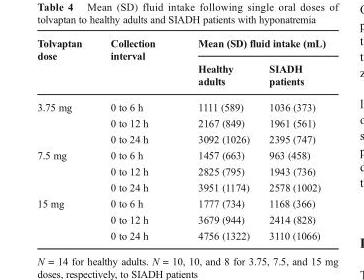table: (36, 36, 324, 240)
table column: (175, 36, 258, 240), (95, 36, 175, 240), (258, 36, 324, 240), (36, 36, 95, 240)
table column header: (36, 36, 324, 93)
table row: (36, 55, 324, 93), (36, 93, 324, 114), (36, 36, 324, 55), (36, 194, 324, 211), (36, 114, 324, 130), (36, 130, 324, 146), (36, 146, 324, 162), (36, 162, 324, 178), (36, 178, 324, 194), (36, 211, 324, 227), (36, 227, 324, 240)
table spanning cell: (95, 36, 175, 93), (36, 36, 95, 93), (36, 93, 95, 146), (36, 146, 95, 194), (175, 36, 324, 55), (36, 194, 95, 240)
